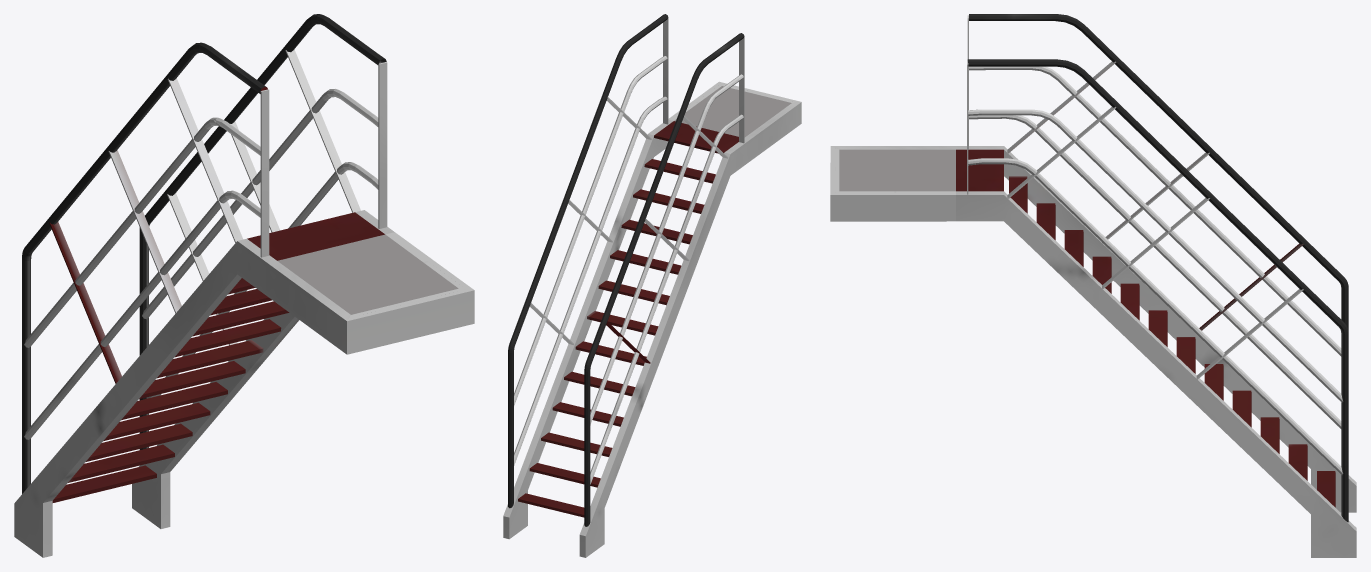
File: Stairs.fbx
The picture shows the model from 3 angles, left to right: view 1: azimuth 30°, elevation 25°; view 2: azimuth 150°, elevation 25°; view 3: azimuth 270°, elevation 25°; orthographic projection. The views are drawn at different scales.
Visible parts, largest first — view 1: TANKER_800_Blue.001; view 2: TANKER_800_Blue.001; view 3: TANKER_800_Blue.001.
Boxes of the visible parts, x1,y1,x2,y2 form: TANKER_800_Blue.001: (14, 14, 474, 557); TANKER_800_Blue.001: (503, 14, 801, 557); TANKER_800_Blue.001: (830, 14, 1356, 557).
Size of the model in its own units: 840 by 3954 by 3797.
